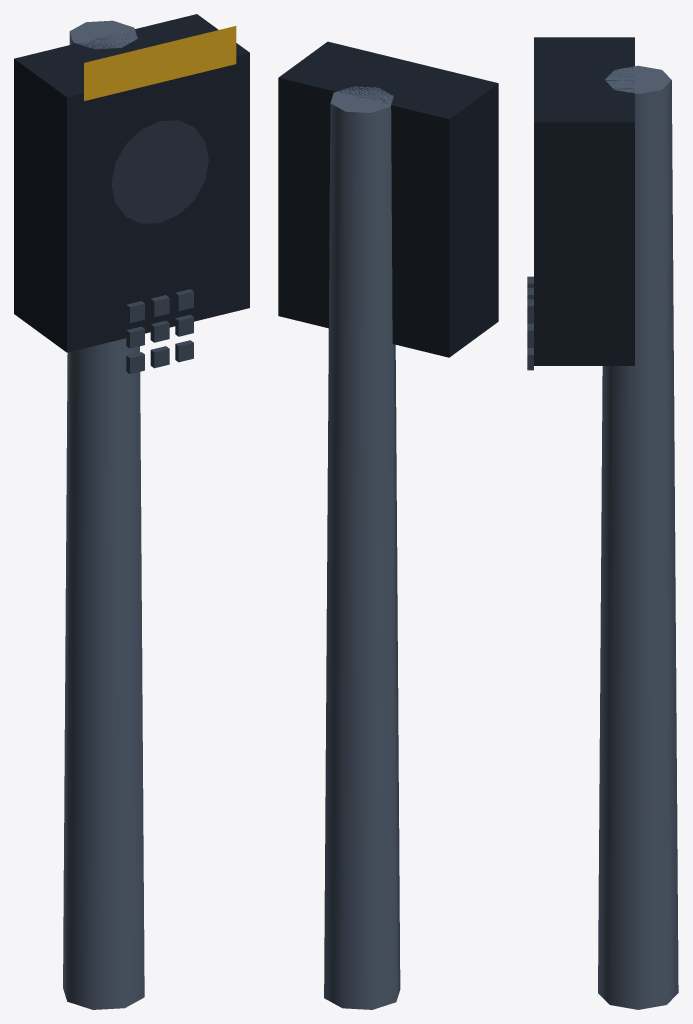
The model's file is yard-intercom-body.baseline.glb.
3 views of the same model, side by side, from view 1: azimuth 30°, elevation 25°; view 2: azimuth 150°, elevation 25°; view 3: azimuth 270°, elevation 25° (orthographic). The views are drawn at different scales.
Parts seen in each view (by area): view 1: Yard-intercom-bodyBody; view 2: Yard-intercom-bodyBody; view 3: Yard-intercom-bodyBody.
Boxes of the visible parts, box(x1,y1,x2,y2) form: Yard-intercom-bodyBody: box(14, 14, 249, 1009); Yard-intercom-bodyBody: box(278, 41, 498, 1009); Yard-intercom-bodyBody: box(527, 37, 678, 1009).
Bounding box in the file's own units: 0.3 × 1.55 × 0.225.
